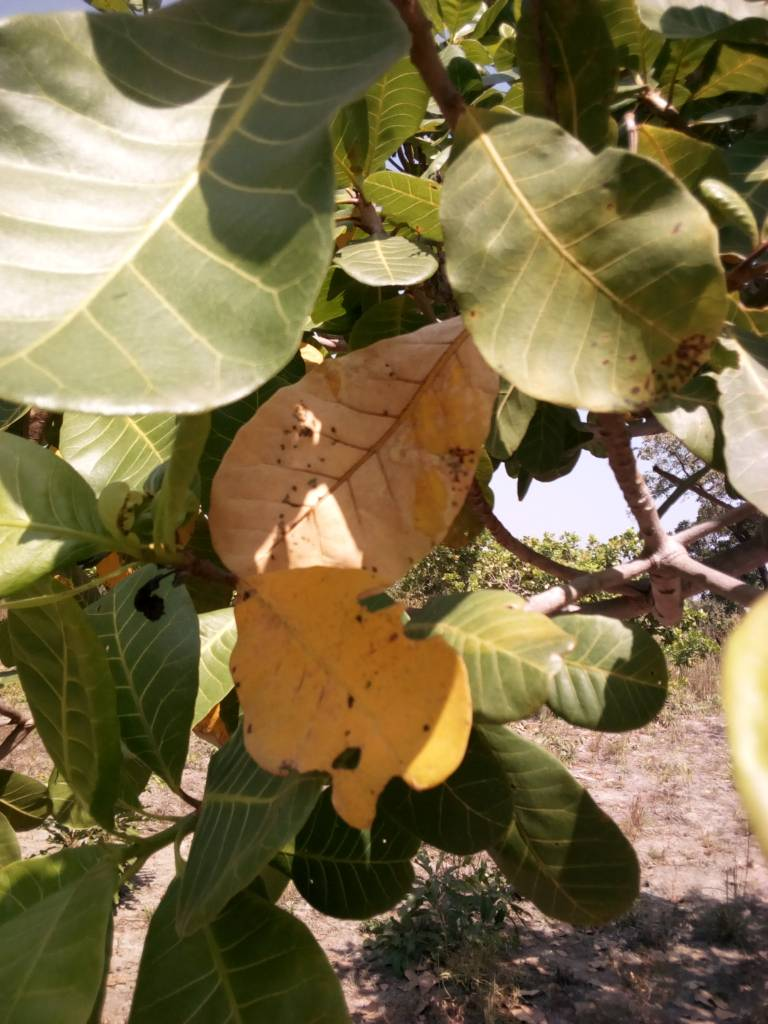Anthracnose: (208, 321, 504, 597), (438, 146, 710, 407)
